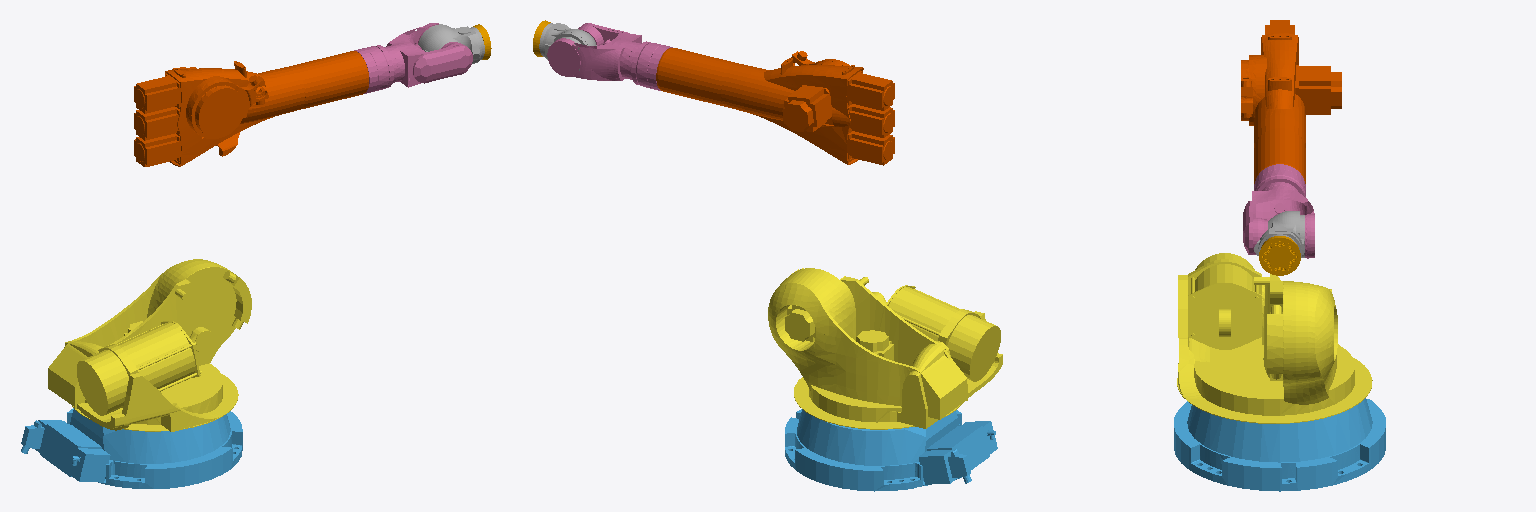
URDF robot description (kuka):
<?xml version="1.0" encoding="UTF-8"?>
<robot name="kuka">
  <joint name="Link1_link_1" type="fixed">
    <origin xyz="0. 0. 0." rpy="0. 1.5707963 0. "/>
    <parent link="link_1"/>
    <child link="Link1"/>
  </joint>
  <joint name="joint_a1" type="revolute">
    <origin xyz="-0.00262 0.0009759 0.33099 " rpy="0. -1.5707963 0. "/>
    <parent link="base_link"/>
    <child link="link_1"/>
    <axis xyz="1. 0. 0."/>
    <limit lower="-3.2288591" upper="3.2288591" effort="340282346638528859811704183484516925440." velocity="2.146755"/>
  </joint>
  <joint name="joint_a2" type="revolute">
    <origin xyz="0.4192 -0.037476 -0.35277 " rpy="1.5707964 0. 1.5707964"/>
    <parent link="link_1"/>
    <child link="link_2"/>
    <axis xyz="1. 0. 0."/>
    <limit lower="-0.7853982" upper="1.4835299" effort="340282346638528859811704183484516925440." velocity="2.0071288"/>
  </joint>
  <joint name="joint_a3" type="revolute">
    <origin xyz="-0.1475 0.0000985 1.2499 " rpy="0. 0. 0."/>
    <parent link="link_2"/>
    <child link="link_3"/>
    <axis xyz="1. 0. 0."/>
    <limit lower="-3.6651912" upper="1.134464" effort="340282346638528859811704183484516925440." velocity="1.9547688"/>
  </joint>
  <joint name="joint_a4" type="revolute">
    <origin xyz="0.184 -0.95795 -0.0550589" rpy="0. 0. -1.5707964"/>
    <parent link="link_3"/>
    <child link="link_4"/>
    <axis xyz="1. 0. 0."/>
    <limit lower="-6.1086524" upper="6.1086524" effort="340282346638528859811704183484516925440." velocity="3.1241396"/>
  </joint>
  <joint name="joint_a5" type="revolute">
    <origin xyz="0.5420001 0. 0. " rpy="0. 0. 1.5707964"/>
    <parent link="link_4"/>
    <child link="link_5"/>
    <axis xyz="1. 0. 0."/>
    <limit lower="-2.1816614" upper="2.1816614" effort="340282346638528859811704183484516925440." velocity="3.0019666"/>
  </joint>
  <joint name="joint_a6" type="revolute">
    <origin xyz="0. -0.1925001 0. " rpy="0. 0. -1.5707964"/>
    <parent link="link_5"/>
    <child link="link_6"/>
    <axis xyz="1. 0. 0."/>
    <limit lower="-6.1086524" upper="6.1086524" effort="340282346638528859811704183484516925440." velocity="3.8222711"/>
  </joint>
  <joint name="link_6_tool0" type="fixed">
    <origin xyz="0.0374999 0. -0.0002392" rpy="0. 0. 0."/>
    <parent link="link_6"/>
    <child link="tool0"/>
  </joint>
  <joint name="root_joint" type="fixed">
    <origin xyz="0. 0. 0." rpy="0. 0. 0."/>
    <parent link="kuka_kr210"/>
    <child link="base_link"/>
  </joint>
  <link name="Link1"/>
  <link name="base_link">
    <inertial>
      <origin xyz="0. 0. 0." rpy="0. 0. 0."/>
      <mass value="1572.9000244"/>
      <inertia ixx="0.001" ixy="0." ixz="0." iyy="0.001" iyz="0." izz="0.001"/>
    </inertial>
    <visual>
      <origin xyz="0. 0. 0." rpy="-1.5707964 0. 0. "/>
      <geometry>
        <mesh filename="package://arm_desc/meshes/base_link_visuals.obj" scale="1. 1. 1."/>
      </geometry>
    </visual>
    <collision>
      <origin xyz="0. 0. 0." rpy="-1.5707964 0. 0. "/>
      <geometry>
        <mesh filename="package://arm_desc/meshes/base_link_collisions.obj" scale="1. 1. 1."/>
      </geometry>
    </collision>
  </link>
  <link name="kuka_kr210"/>
  <link name="link_1">
    <inertial>
      <origin xyz="0. 0. 0." rpy="0. 0. 0."/>
      <mass value="1385.5"/>
      <inertia ixx="0.001" ixy="0." ixz="0." iyy="0.001" iyz="0." izz="0.001"/>
    </inertial>
    <visual>
      <origin xyz="0. 0. 0." rpy="0. 1.5707963 0. "/>
      <geometry>
        <mesh filename="package://arm_desc/meshes/link_1_visuals.obj" scale="1. 1. 1."/>
      </geometry>
    </visual>
    <collision>
      <origin xyz="0. 0. 0." rpy="0. 1.5707963 0. "/>
      <geometry>
        <mesh filename="package://arm_desc/meshes/link_1_collisions.obj" scale="1. 1. 1."/>
      </geometry>
    </collision>
  </link>
  <link name="link_2">
    <inertial>
      <origin xyz="0. 0. 0." rpy="0. 0. 0."/>
      <mass value="958.6199951"/>
      <inertia ixx="0.001" ixy="0." ixz="0." iyy="0.001" iyz="0." izz="0.001"/>
    </inertial>
    <visual>
      <origin xyz="-0. 0. 0." rpy="-1.5707964 0. -1.5707964"/>
      <geometry>
        <mesh filename="package://arm_desc/meshes/link_2_visuals.obj" scale="1. 1. 1."/>
      </geometry>
    </visual>
    <collision>
      <origin xyz="-0. 0. 0." rpy="0. 0. -1.5707964"/>
      <geometry>
        <mesh filename="package://arm_desc/meshes/link_2_collisions.obj" scale="1. 1. 1."/>
      </geometry>
    </collision>
  </link>
  <link name="link_3">
    <inertial>
      <origin xyz="0. 0. 0." rpy="0. 0. 0."/>
      <mass value="710.0300293"/>
      <inertia ixx="0.001" ixy="0." ixz="0." iyy="0.001" iyz="0." izz="0.001"/>
    </inertial>
    <visual>
      <origin xyz="0. 0. 0.0000001" rpy="-1.5707964 0. -1.5707964"/>
      <geometry>
        <mesh filename="package://arm_desc/meshes/link_3_visuals.obj" scale="1. 1. 1."/>
      </geometry>
    </visual>
    <collision>
      <origin xyz="0. 0. 0.0000001" rpy="0. 0. -1.5707964"/>
      <geometry>
        <mesh filename="package://arm_desc/meshes/link_3_collisions.obj" scale="1. 1. 1."/>
      </geometry>
    </collision>
  </link>
  <link name="link_4">
    <inertial>
      <origin xyz="0. 0. 0." rpy="0. 0. 0."/>
      <mass value="173.7299957"/>
      <inertia ixx="0.001" ixy="0." ixz="0." iyy="0.001" iyz="0." izz="0.001"/>
    </inertial>
    <visual>
      <origin xyz="0. 0. 0." rpy="-1.5707964 0. 0. "/>
      <geometry>
        <mesh filename="package://arm_desc/meshes/link_4_visuals.obj" scale="1. 1. 1."/>
      </geometry>
    </visual>
    <collision>
      <origin xyz="0. 0. 0." rpy="0. 0. 0."/>
      <geometry>
        <mesh filename="package://arm_desc/meshes/link_4_collisions.obj" scale="1. 1. 1."/>
      </geometry>
    </collision>
  </link>
  <link name="link_5">
    <inertial>
      <origin xyz="0. 0. 0." rpy="0. 0. 0."/>
      <mass value="72.1699982"/>
      <inertia ixx="0.001" ixy="0." ixz="0." iyy="0.001" iyz="0." izz="0.001"/>
    </inertial>
    <visual>
      <origin xyz="0. -0.0000001 0. " rpy="-1.5707964 0. -1.5707964"/>
      <geometry>
        <mesh filename="package://arm_desc/meshes/link_5_visuals.obj" scale="1. 1. 1."/>
      </geometry>
    </visual>
    <collision>
      <origin xyz="0. -0.0000001 0. " rpy="0. 0. -1.5707964"/>
      <geometry>
        <mesh filename="package://arm_desc/meshes/link_5_collisions.obj" scale="1. 1. 1."/>
      </geometry>
    </collision>
  </link>
  <link name="link_6">
    <inertial>
      <origin xyz="0. 0. 0." rpy="0. 0. 0."/>
      <mass value="6.3154001"/>
      <inertia ixx="0.001" ixy="0." ixz="0." iyy="0.001" iyz="0." izz="0.001"/>
    </inertial>
    <visual>
      <origin xyz="-0.0000001 0. 0. " rpy="0. 0. 0."/>
      <geometry>
        <mesh filename="package://arm_desc/meshes/link_6_visuals.obj" scale="1. 1. 1."/>
      </geometry>
    </visual>
    <collision>
      <origin xyz="-0.0000001 0. 0. " rpy="0. 0. 0."/>
      <geometry>
        <mesh filename="package://arm_desc/meshes/link_6_collisions.obj" scale="1. 1. 1."/>
      </geometry>
    </collision>
  </link>
  <link name="tool0"/>
</robot>

--- Render facts (derived) ---
Views: 3 orthographic renders of the robot side by side, from view 1: azimuth 30°, elevation 25°; view 2: azimuth 150°, elevation 25°; view 3: azimuth 270°, elevation 25°.
Model kuka with 10 links and 9 joints (6 revolute, 3 fixed), rooted at kuka_kr210, posed all joints at 0.
Links seen in each view (by area): view 1: link_1, link_3, base_link, link_4, link_5; view 2: link_1, link_3, base_link, link_4, link_5; view 3: link_1, base_link, link_3, link_4, link_6, link_5.
Link boxes in pixels (x1,y1,x2,y2): link_1: (48, 259, 251, 431); link_3: (134, 51, 368, 166); base_link: (21, 408, 242, 488); link_4: (354, 23, 472, 93); link_5: (418, 24, 484, 63); link_1: (768, 268, 1002, 429); link_3: (656, 48, 894, 165); base_link: (785, 409, 997, 491); link_4: (547, 23, 672, 90); link_5: (539, 23, 596, 70); link_1: (1177, 253, 1372, 423); base_link: (1174, 398, 1385, 491); link_3: (1241, 20, 1341, 183); link_4: (1243, 164, 1314, 258); link_6: (1259, 236, 1300, 275); link_5: (1254, 211, 1304, 257).
Bounding box of the posed robot: 2.76 × 0.9994 × 2.21 m (x, y, z).
6 mesh visuals loaded from 7 distinct referenced files (6 OBJ); not drawn: 1 (reference not matched to a file when rendering).